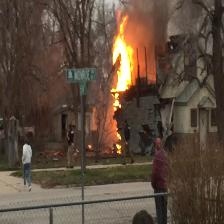fire: (113, 26, 134, 91)
smoke: (135, 8, 162, 47)
